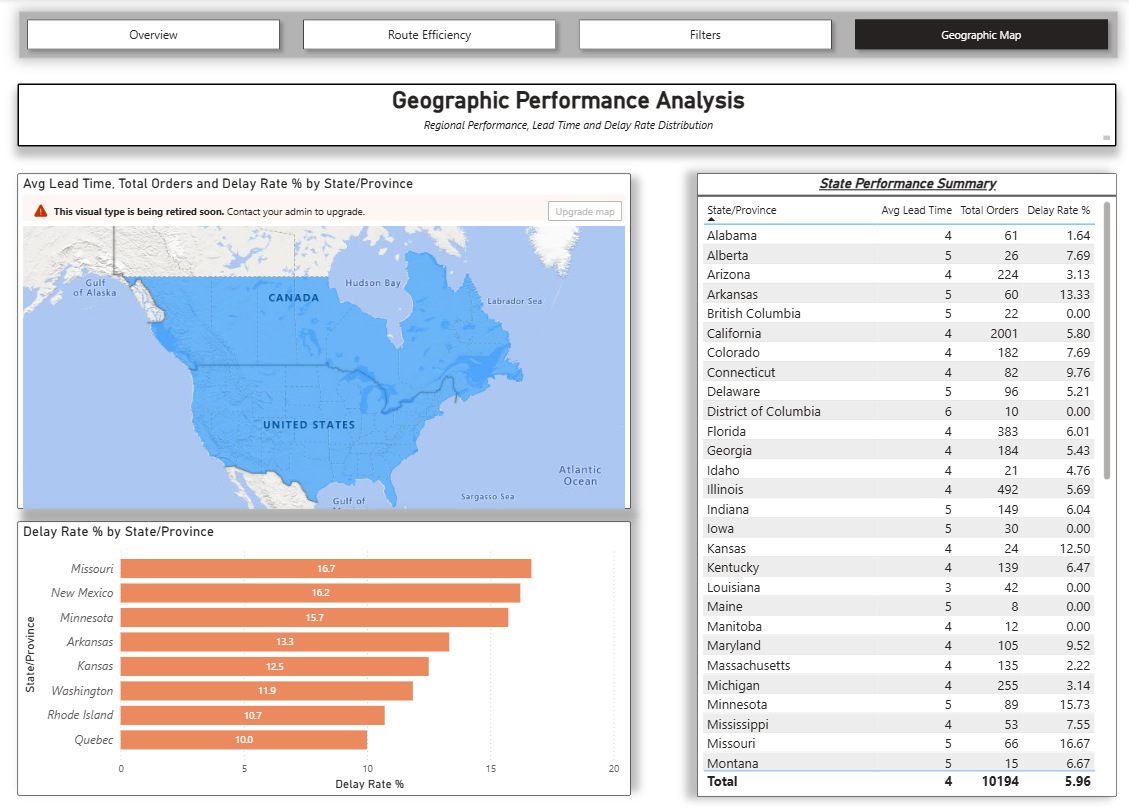

This screenshot's page, from the dashboard's own definition file:
{"tool":"powerbi","page":{"name":"Geographic Map","canvas":[1400,1000],"ordinal":3},"visuals":[{"type":"filledMap","fields":{"Category":["Nassau Candy Distributor.State/Province"]},"box":[24.4,215.2,753.1,412.1],"z":0},{"type":"tableEx","title":"State Performance Summary","fields":{"Values":["Nassau Candy Distributor.State/Province","Nassau Candy Distributor.Avg Lead Time","Nassau Candy Distributor.Total Orders","Nassau Candy Distributor.Delay Rate %"]},"box":[858.6,215.2,515.6,765.2],"z":1000},{"type":"barChart","fields":{"Category":["Nassau Candy Distributor.State/Province"],"Y":["Nassau Candy Distributor.Delay Rate %"]},"box":[24.4,643.5,753.1,336.9],"z":2000},{"type":"pageNavigator","box":[25,17.5,1350,57.5],"z":3000},{"type":"textbox","title":"Geographic Performance Analysis","box":[24.4,105.5,1349.8,77.1],"z":4000}]}

Visuals, with their boxes in screenshot pixels (x1, y1, x2, y2), scaled from the page's 1400x1000 canvas onto the 1129x807 screenshot:
filledMap - Nassau Candy Distributor.State/Province: box(20, 174, 627, 506)
"State Performance Summary" tableEx: box(692, 174, 1108, 791)
barChart - Nassau Candy Distributor.State/Province x Nassau Candy Distributor.Delay Rate %: box(20, 519, 627, 791)
pageNavigator: box(20, 14, 1109, 61)
"Geographic Performance Analysis" textbox: box(20, 85, 1108, 147)
